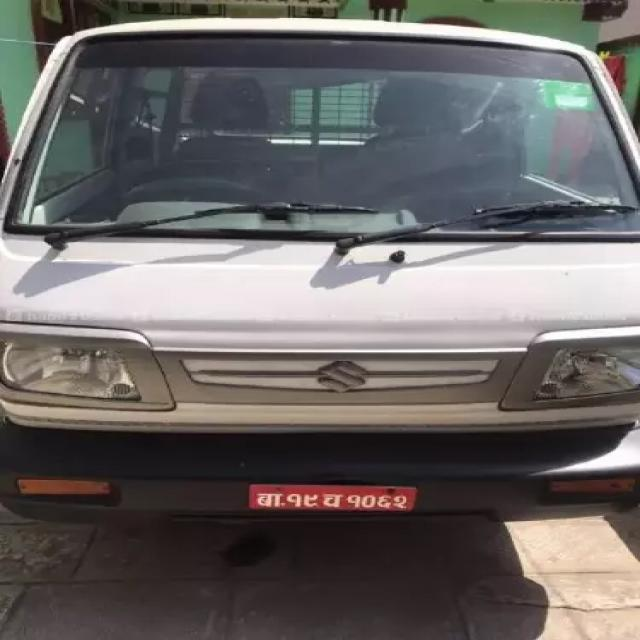License-plate: (246, 481, 419, 512)
